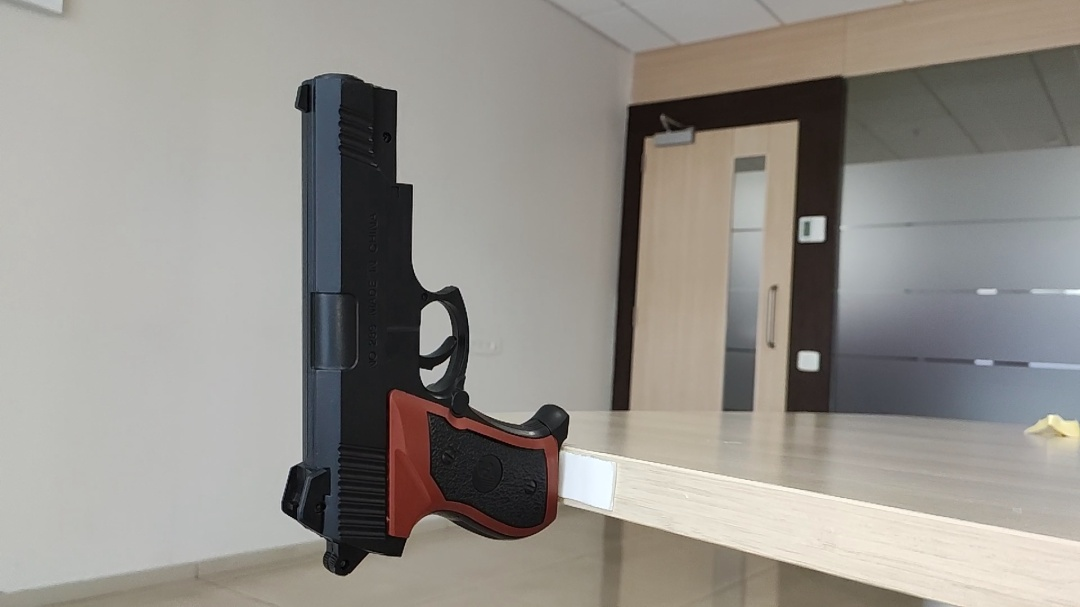gun: (399, 233, 430, 271)
